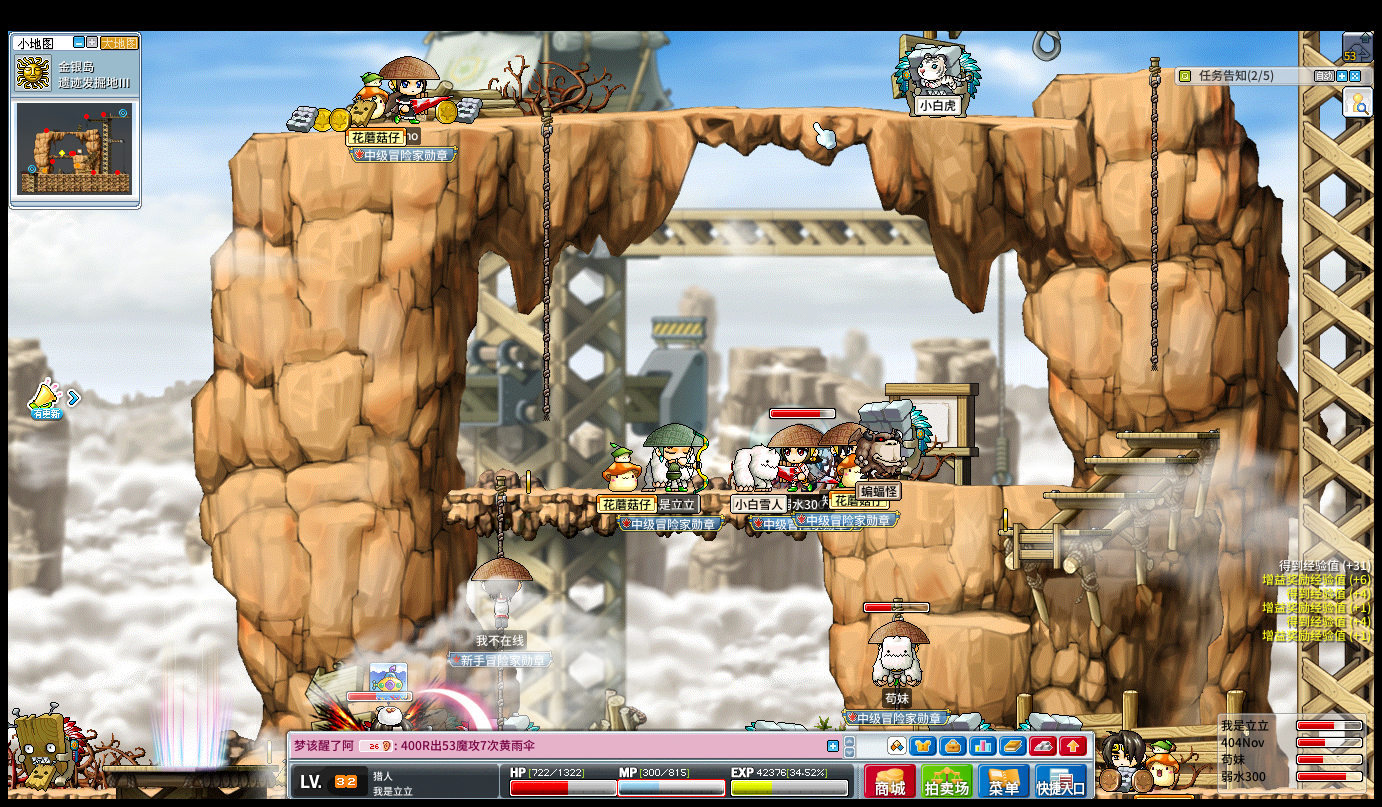floor: (251, 105, 1083, 138), (446, 486, 821, 497), (916, 611, 1029, 633), (1054, 62, 1174, 76), (922, 481, 1082, 491), (1080, 454, 1197, 464), (996, 527, 1110, 537), (1115, 429, 1219, 439), (1040, 490, 1155, 499)
monster: (6, 704, 88, 788), (859, 398, 932, 471), (859, 399, 932, 451)
rope: (1146, 56, 1162, 370), (541, 109, 552, 421), (492, 478, 506, 558)
